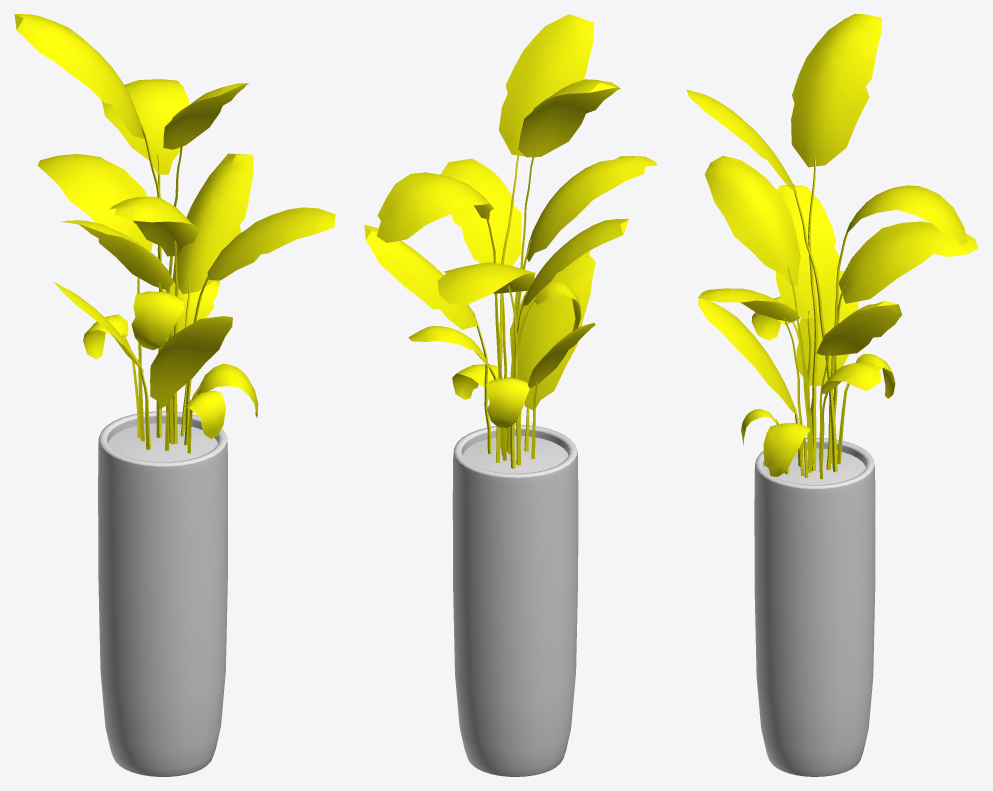
File: planta.fbx
3 renders of one model, left to right at view 1: azimuth 30°, elevation 25°; view 2: azimuth 150°, elevation 25°; view 3: azimuth 270°, elevation 25°, orthographic. The views are drawn at different scales.
Visible parts, largest first — view 1: plant.001, pot.001, ground.001; view 2: plant.001, pot.001, ground.001; view 3: plant.001, pot.001, ground.001.
Boxes of the visible parts, box(x1,y1,x2,y2) form: plant.001: box(14, 14, 335, 453); pot.001: box(98, 411, 227, 776); ground.001: box(108, 423, 217, 462); plant.001: box(364, 14, 657, 468); pot.001: box(452, 424, 578, 776); ground.001: box(462, 436, 568, 473); plant.001: box(686, 14, 978, 479); pot.001: box(754, 438, 875, 776); ground.001: box(764, 448, 865, 484).
Size of the model in its own units: 23.91 by 68.61 by 26.23.
